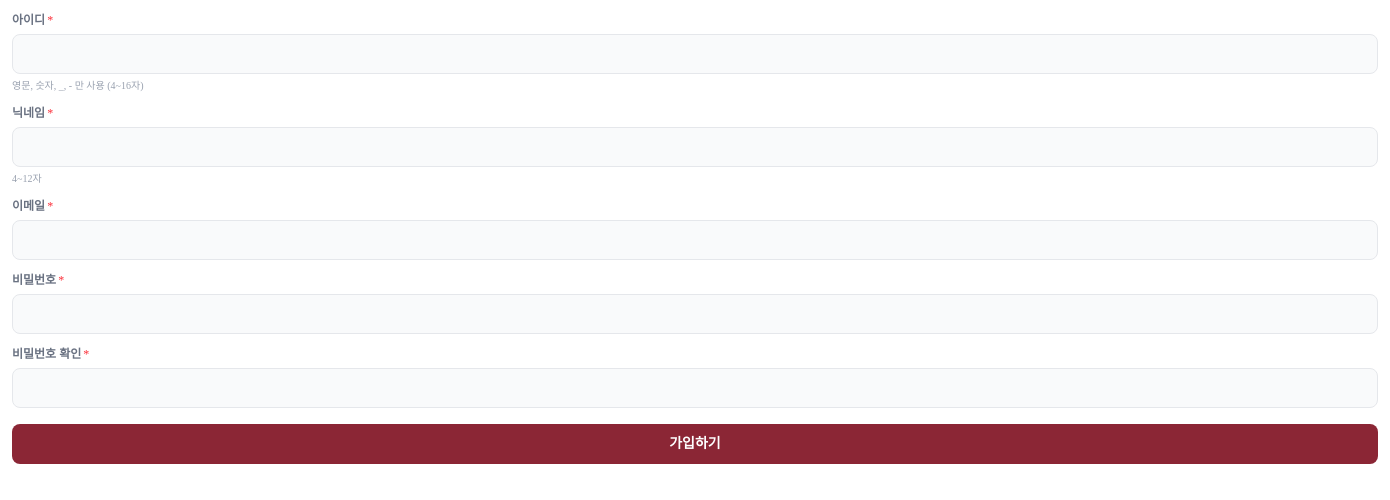
Test: SignupForm › 비밀번호 불일치 시 클라이언트 에러를 표시한다
This screenshot has width=1390, height=500.
Type "password123" into the password field labelled "비밀번호" at (695, 314), box [12,294,1378,334]
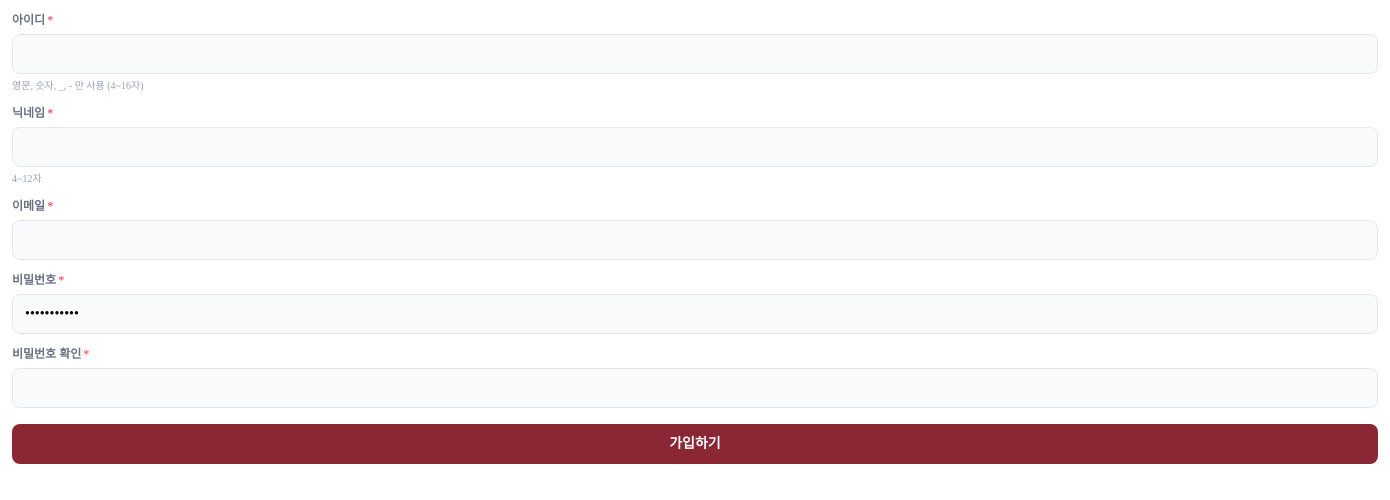
Type "different123" into the password field labelled "비밀번호 확인" at (695, 388), box [12,368,1378,408]
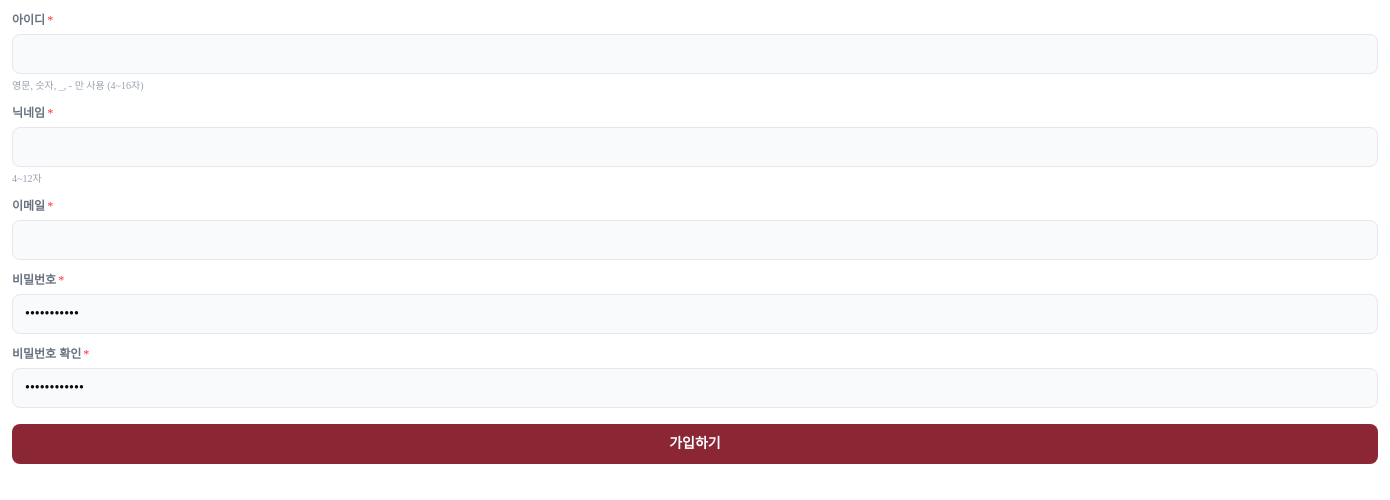
Click the button "가입하기" at (695, 444), box [12,424,1378,464]
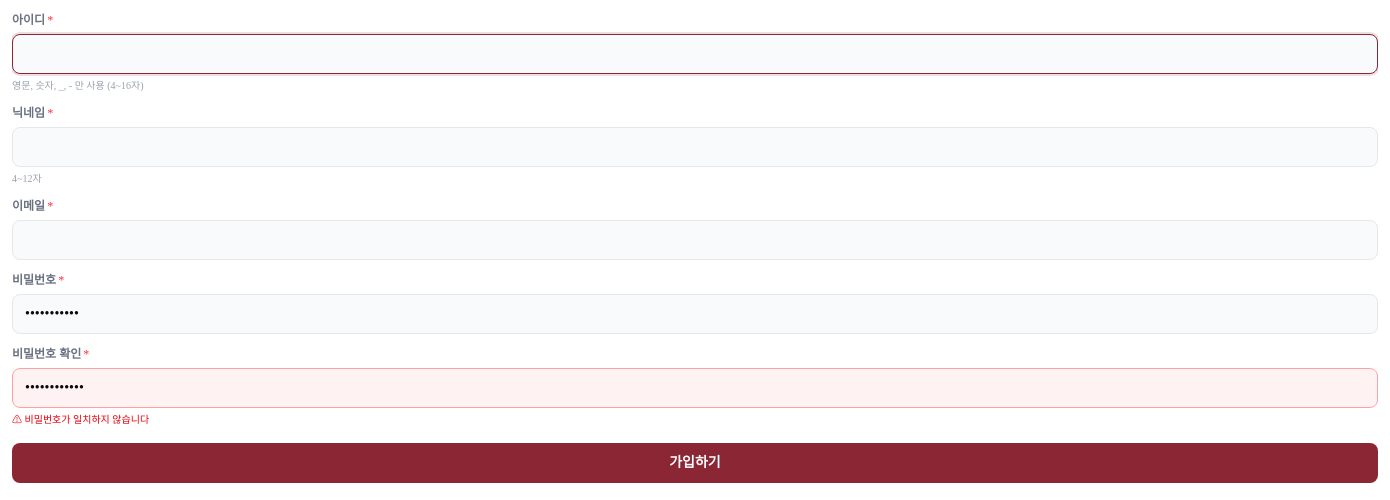
Result: the text "비밀번호가 일치하지 않습니다" is shown at [22,414,149,425]
